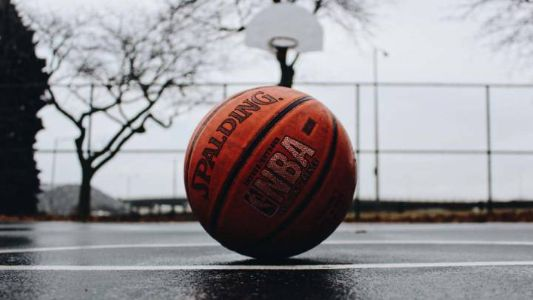baloncesto: (184, 85, 357, 259)
